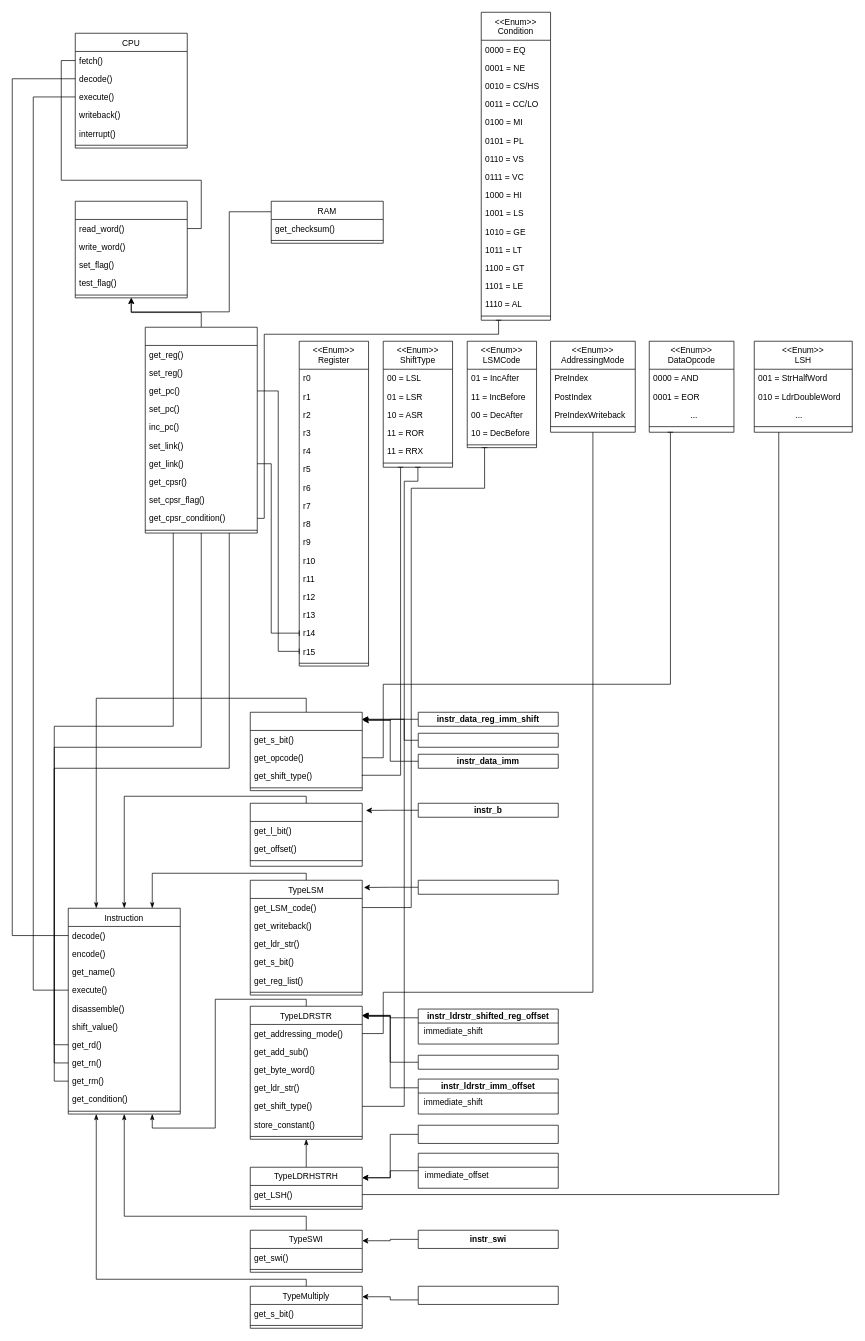
This 865x1341 diagram has some shape labels left out. The shapes that lost their labels are listed below. From the top down, each one's box as (x1, y1, x2, y2) in pixels, then its label:
(75, 201, 187, 298): Memory
(145, 327, 257, 533): Registers
(250, 712, 362, 791): TypeData
(418, 733, 558, 747): instr_data_reg_reg_shift
(250, 803, 362, 866): TypeBranch
(418, 880, 558, 894): instr_lsm
(418, 1055, 558, 1069): instr_ldrstr_reg_offset
(418, 1125, 558, 1143): instr_ldrhstrh_reg_offset
(418, 1153, 558, 1188): instr_ldrhstrh_imm_offset
(418, 1286, 558, 1304): instr_multiply
